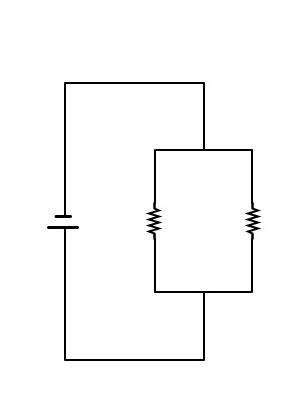resistor: (137, 189, 176, 245), (234, 192, 270, 248)
